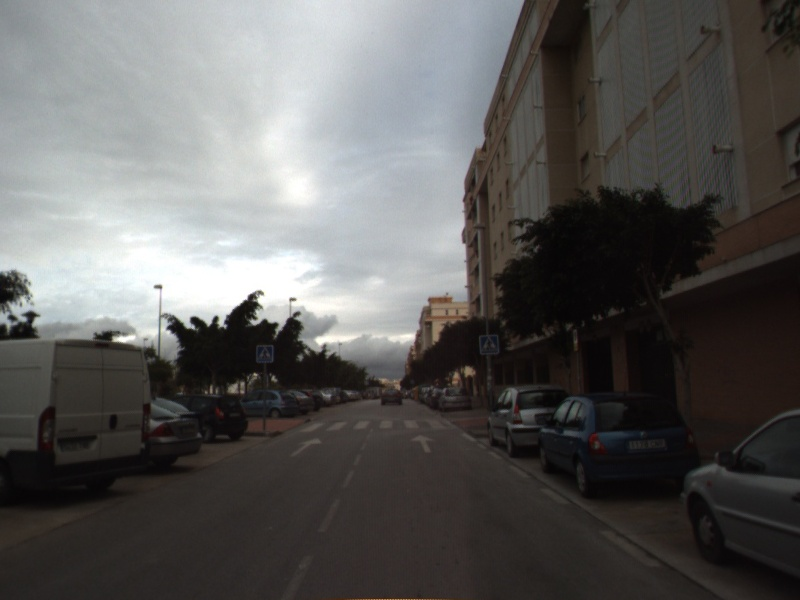STRAIGHT: (289, 436, 324, 458), (408, 433, 437, 454)
